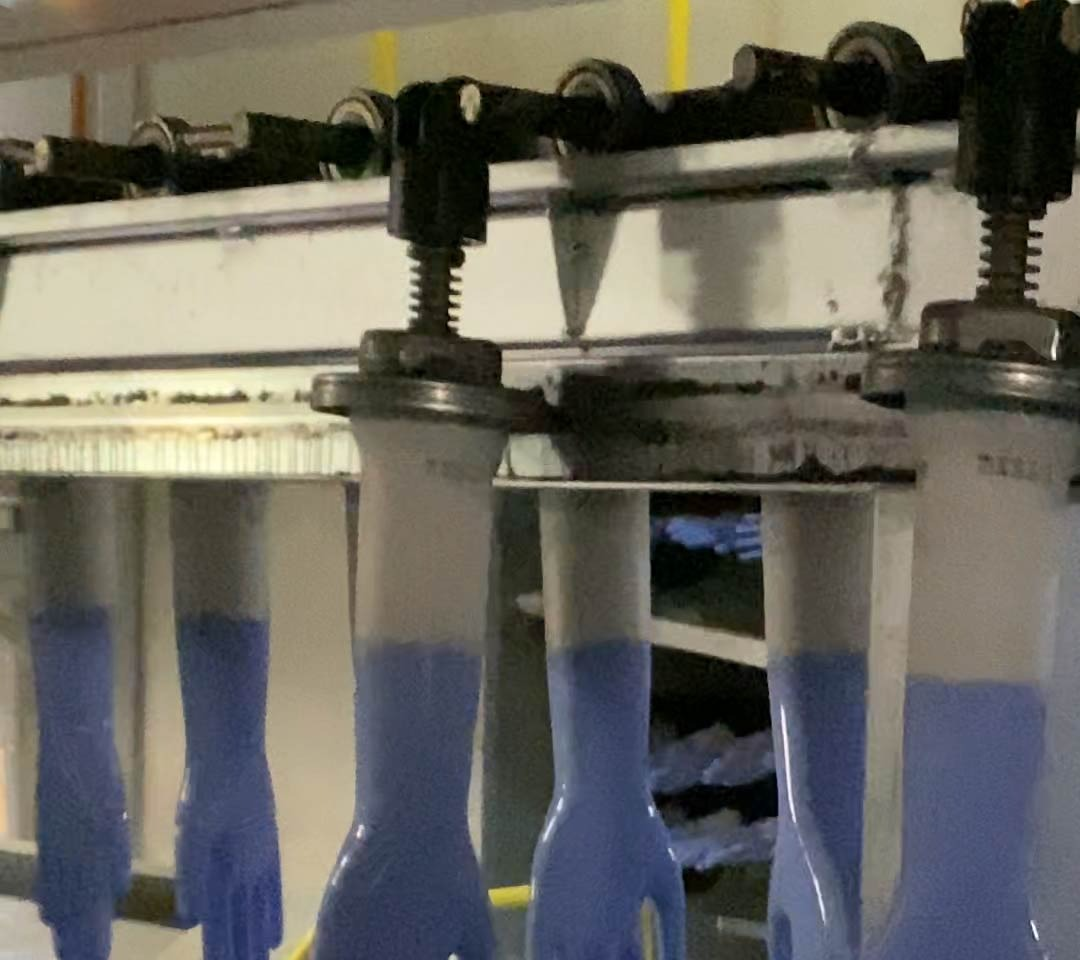glove: (303, 632, 501, 960), (525, 640, 689, 960), (160, 608, 286, 960), (18, 604, 134, 960), (757, 648, 872, 960)
